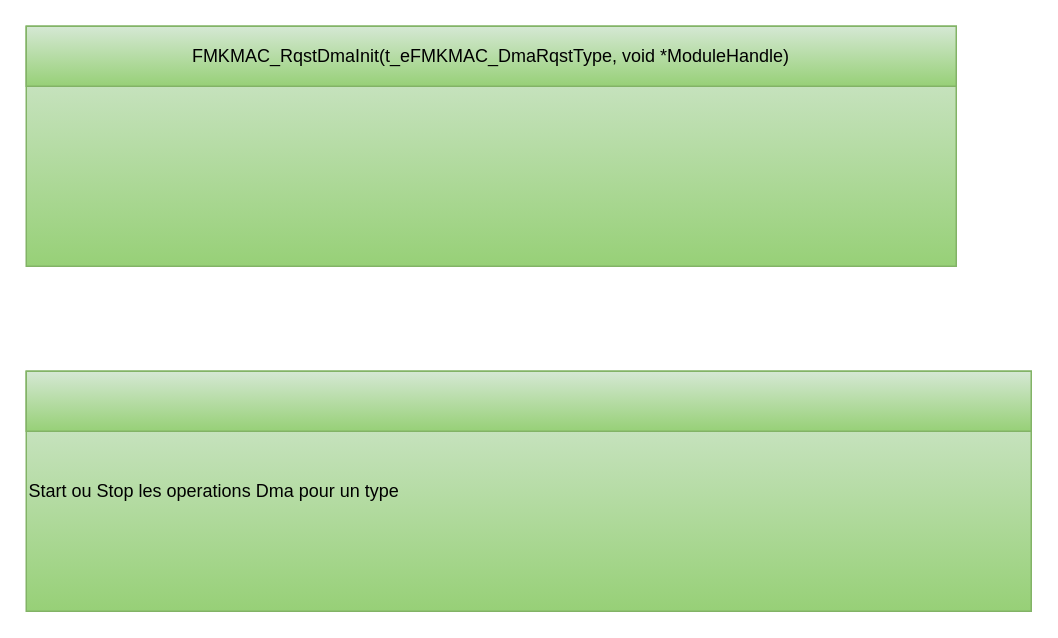
Some shapes in this 1058 by 638 pixel diagram are drawn without their labels. Each missing label, with the box of its shape:
FMK MAC_SetDmaState( t_eFMKMAC_DmaRqstType , t_eFMKMAC_ChannelState ): (25, 370, 1031, 431)
Penser à Enable clockport: (25, 25, 956, 266)
